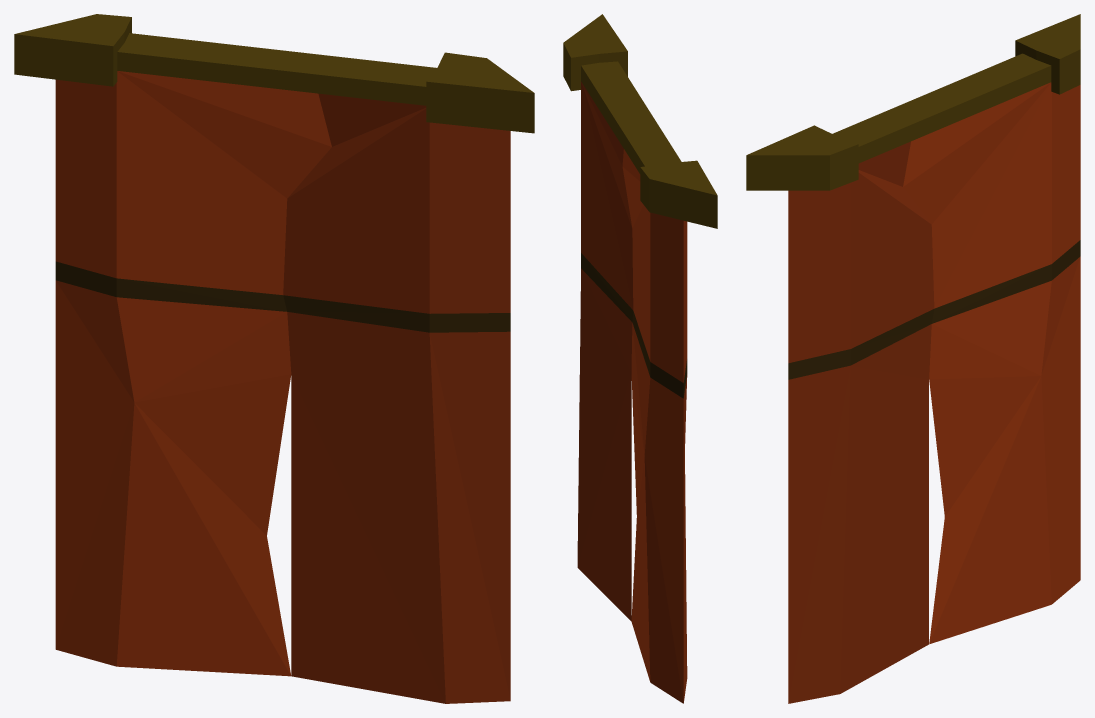
File: obj_tent_door_1.obj
3 views of the same model, side by side, from view 1: azimuth 30°, elevation 25°; view 2: azimuth 150°, elevation 25°; view 3: azimuth 270°, elevation 25° (orthographic). The views are drawn at different scales.
Size of the model in its own units: 1 by 1.81 by 1.
